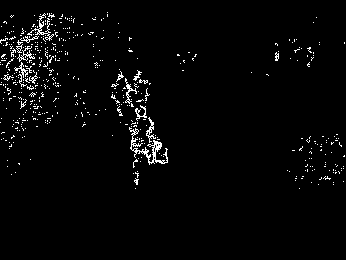person: (128, 104, 170, 188)
